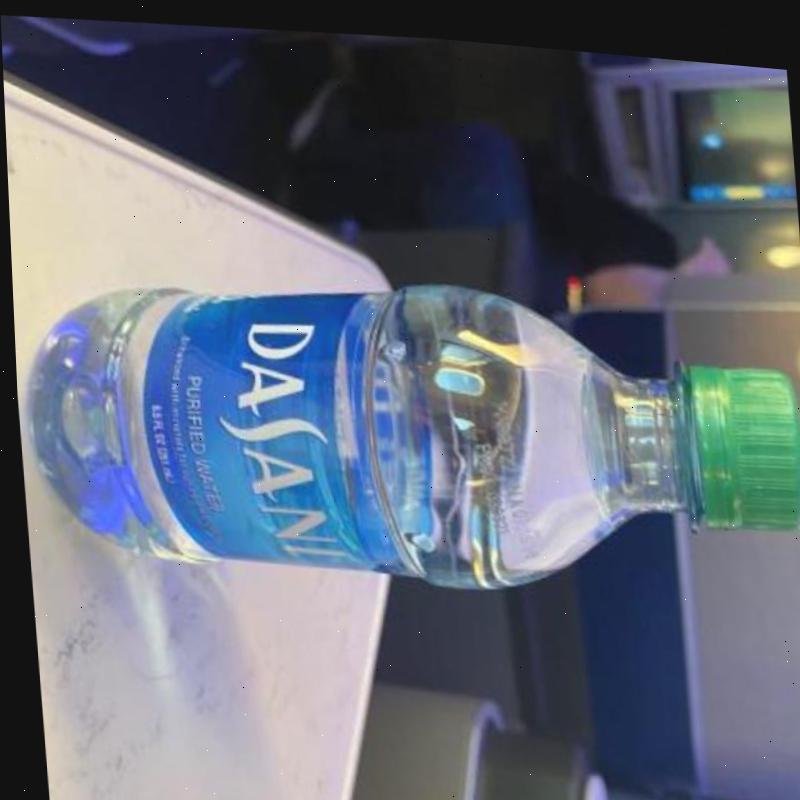botella: (15, 232, 800, 620)
